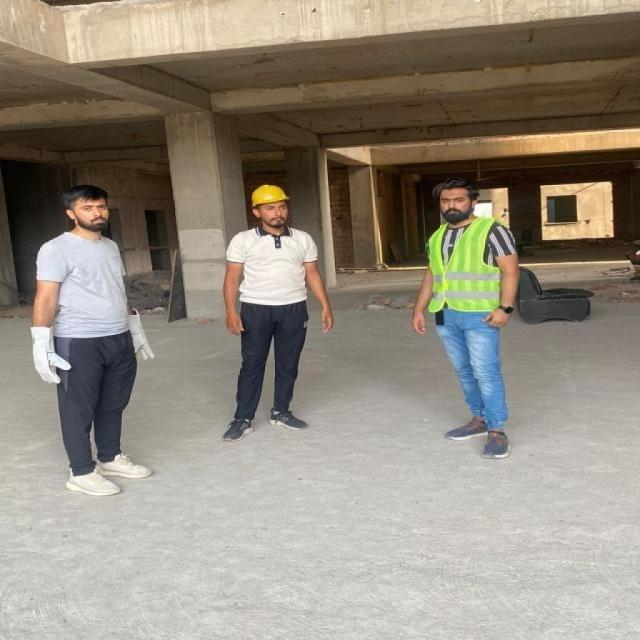Gloves-Detection: (25, 324, 72, 380), (124, 302, 156, 369)
